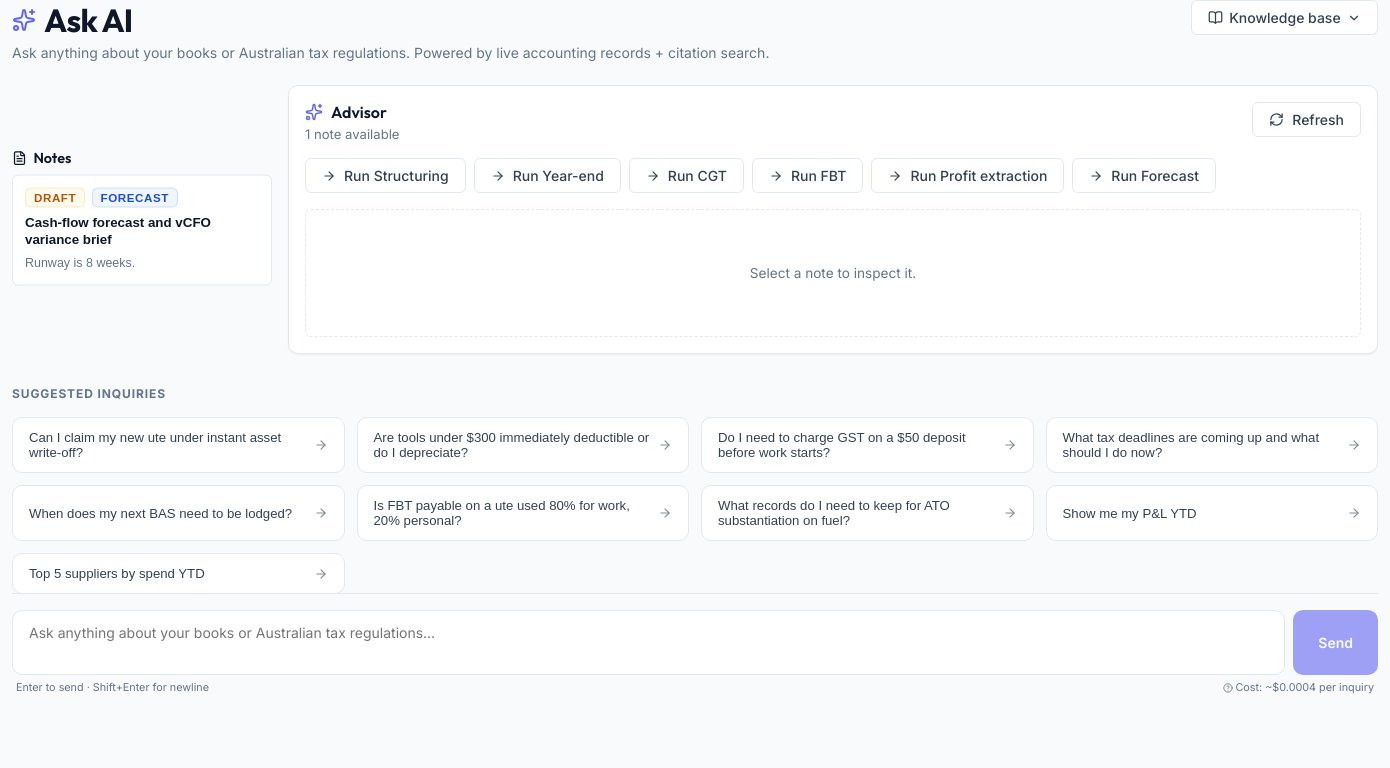
Test: AskPage advisor surface › keeps the existing ask-bot chat flow working
In the text box with placeholder "Ask anything": (649, 643) [12,610,1285,675], type "What is GST?"
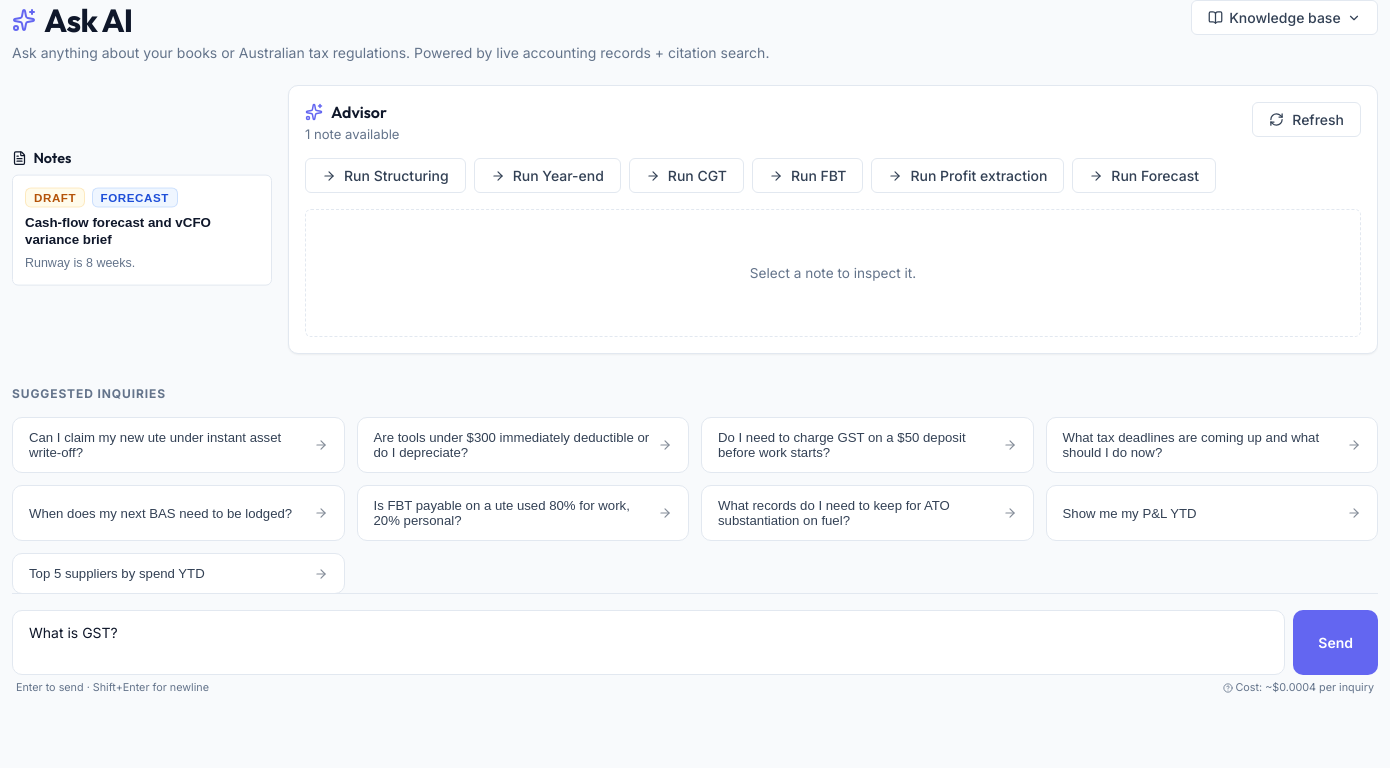
Click the button "Send": (1336, 643) [1293,610,1378,675]
(page scrolled)
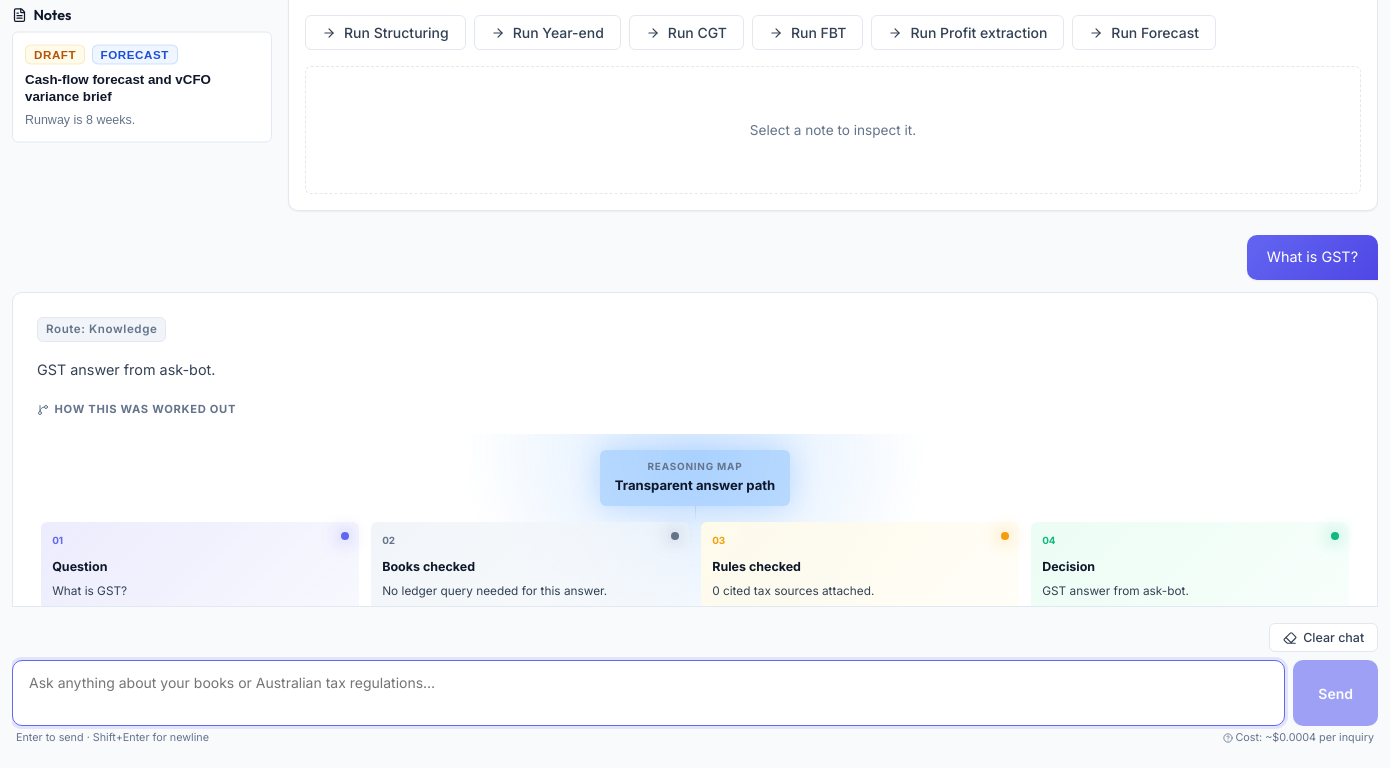
Expected: the text "GST answer from ask-bot." is shown 2 times, [37,361,215,378]; [1042,584,1189,598]
